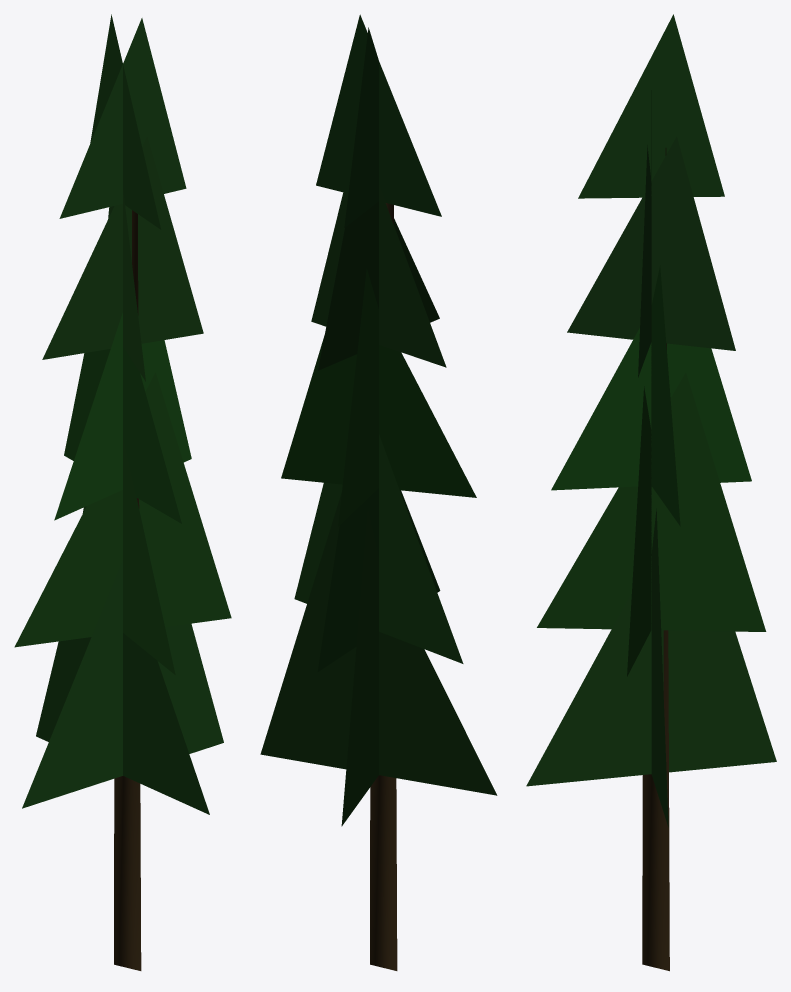
Rendered from GroundCover_Seedling_02.glb.
3 views of the same model, side by side, from view 1: azimuth 30°, elevation 25°; view 2: azimuth 150°, elevation 25°; view 3: azimuth 270°, elevation 25° (orthographic).
Parts seen in each view (by area): view 1: GroundCover_Seedling_02; view 2: GroundCover_Seedling_02; view 3: GroundCover_Seedling_02.
Part boxes in pixels (left/top/right/bottom): GroundCover_Seedling_02: left=14, top=14, right=231, bottom=970; GroundCover_Seedling_02: left=260, top=14, right=497, bottom=970; GroundCover_Seedling_02: left=526, top=14, right=776, bottom=971.
Bounding box in the file's own units: 0.0139 × 0.0574 × 0.0136.
